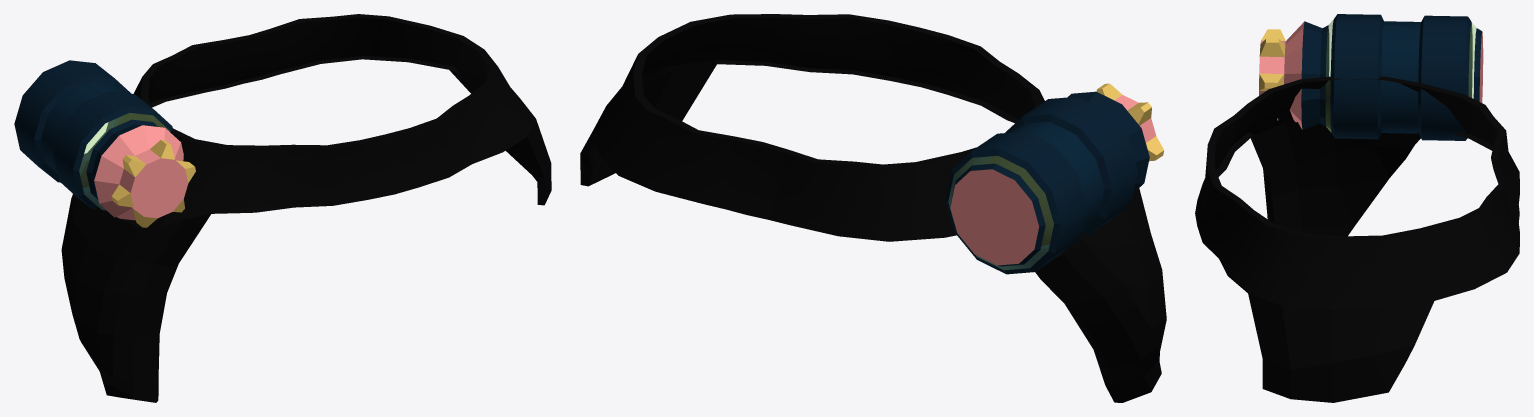
File: cinturon.fbx
The picture shows the model from 3 angles, left to right: view 1: azimuth 30°, elevation 25°; view 2: azimuth 150°, elevation 25°; view 3: azimuth 270°, elevation 25°; orthographic projection. The views are drawn at different scales.
Parts seen in each view (by area): view 1: Object001, granada001; view 2: Object001, granada001; view 3: Object001, granada001.
Boxes of the visible parts, x1,y1,x2,y2 form: Object001: (61, 14, 551, 402); granada001: (14, 60, 195, 227); Object001: (580, 14, 1166, 402); granada001: (945, 83, 1164, 274); Object001: (1195, 76, 1519, 402); granada001: (1259, 14, 1483, 140).
Size of the model in its own units: 17.5 by 9.75 by 10.05.
